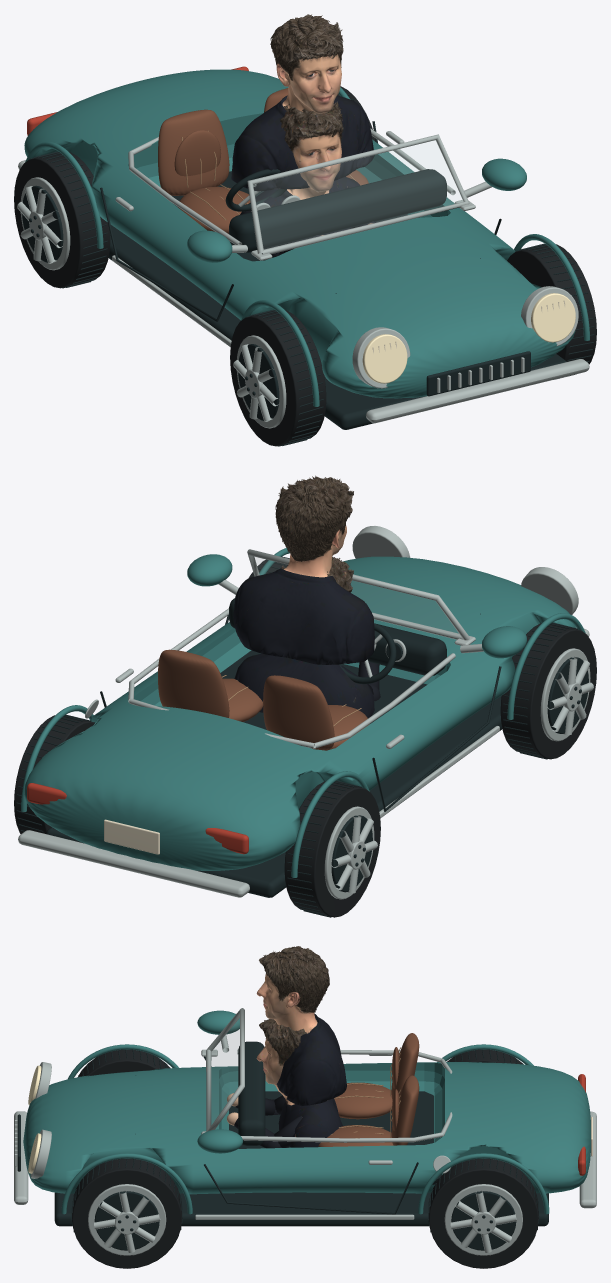
Rendered from sam-trial-kit.glb.
3 renders of one model, top to bottom at view 1: azimuth 30°, elevation 25°; view 2: azimuth 150°, elevation 25°; view 3: azimuth 270°, elevation 25°, orthographic. The views are drawn at different scales.
Parts seen in each view (by area): view 1: Vehicle / Coupe paint, Vehicle / Charcoal, Windscreen, Vehicle / Satin aluminium, sam / portrait sculpture, Vehicle / Saddle leather, Road tire.001, Road tire, sam / driving sculpture, Vehicle / Warm headlight, Road tire.003, Wheel_RL / Satin aluminium (+5 smaller); view 2: Vehicle / Coupe paint, sam / portrait sculpture, Vehicle / Satin aluminium, Vehicle / Charcoal, Vehicle / Saddle leather, Road tire, Road tire.001, sam / driving sculpture, Windscreen, Wheel_FL / Satin aluminium, Wheel_RL / Satin aluminium, Road tire.002 (+5 smaller); view 3: Vehicle / Coupe paint, Vehicle / Charcoal, sam / portrait sculpture, Vehicle / Satin aluminium, Road tire.003, Road tire.002, Vehicle / Saddle leather, sam / driving sculpture, Wheel_RR / Satin aluminium, Wheel_FR / Satin aluminium, Windscreen, Wheel_FR / Charcoal (+5 smaller).
Boxes of the visible parts, bbox=[...] form: Vehicle / Coupe paint: bbox=[24, 69, 589, 406]; Vehicle / Charcoal: bbox=[100, 121, 566, 429]; Windscreen: bbox=[254, 140, 463, 248]; Vehicle / Satin aluminium: bbox=[18, 128, 589, 423]; sam / portrait sculpture: bbox=[231, 14, 374, 191]; Vehicle / Saddle leather: bbox=[158, 88, 368, 233]; Road tire.001: bbox=[230, 310, 326, 446]; Road tire: bbox=[14, 152, 110, 288]; sam / driving sculpture: bbox=[240, 101, 359, 249]; Vehicle / Warm headlight: bbox=[362, 293, 575, 383]; Road tire.003: bbox=[507, 244, 596, 364]; Wheel_RL / Satin aluminium: bbox=[17, 177, 70, 270]; Vehicle / Coupe paint: bbox=[21, 548, 585, 877]; sam / portrait sculpture: bbox=[233, 475, 374, 664]; Vehicle / Satin aluminium: bbox=[18, 526, 589, 897]; Vehicle / Charcoal: bbox=[46, 598, 502, 897]; Vehicle / Saddle leather: bbox=[158, 649, 369, 750]; Road tire: bbox=[284, 781, 380, 917]; Road tire.001: bbox=[500, 623, 596, 759]; sam / driving sculpture: bbox=[234, 556, 374, 718]; Windscreen: bbox=[254, 557, 458, 634]; Wheel_FL / Satin aluminium: bbox=[540, 648, 593, 741]; Wheel_RL / Satin aluminium: bbox=[324, 806, 377, 899]; Road tire.002: bbox=[14, 715, 94, 834]; Vehicle / Coupe paint: bbox=[23, 1010, 590, 1214]; Vehicle / Charcoal: bbox=[17, 1041, 548, 1226]; sam / portrait sculpture: bbox=[256, 946, 346, 1105]; Vehicle / Satin aluminium: bbox=[14, 1008, 596, 1219]; Road tire.003: bbox=[72, 1158, 182, 1268]; Road tire.002: bbox=[428, 1158, 538, 1268]; Vehicle / Saddle leather: bbox=[318, 1033, 419, 1146]; sam / driving sculpture: bbox=[256, 1019, 342, 1147]; Wheel_RR / Satin aluminium: bbox=[444, 1184, 522, 1255]; Wheel_FR / Satin aluminium: bbox=[88, 1184, 166, 1255]; Windscreen: bbox=[210, 1016, 239, 1125]; Wheel_FR / Charcoal: bbox=[71, 1158, 182, 1250].
Bounding box in the file's own units: 2.2 × 1.99 × 4.07.
13 materials, 1 textured.
